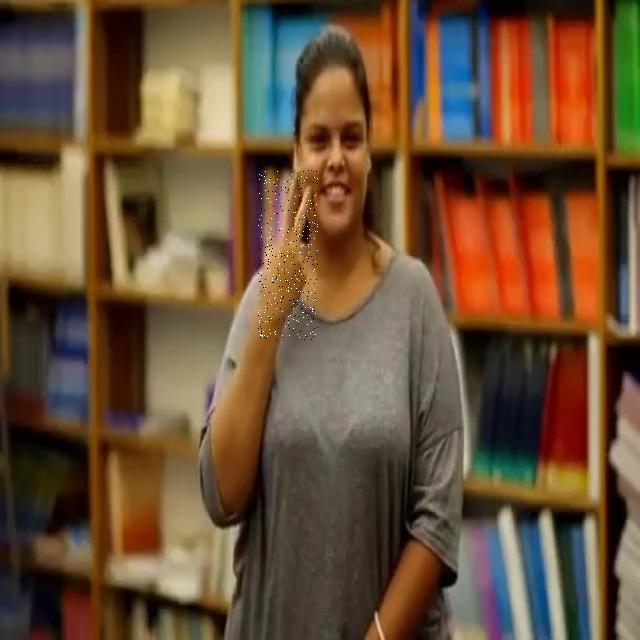vegetables: (258, 170, 318, 340)
